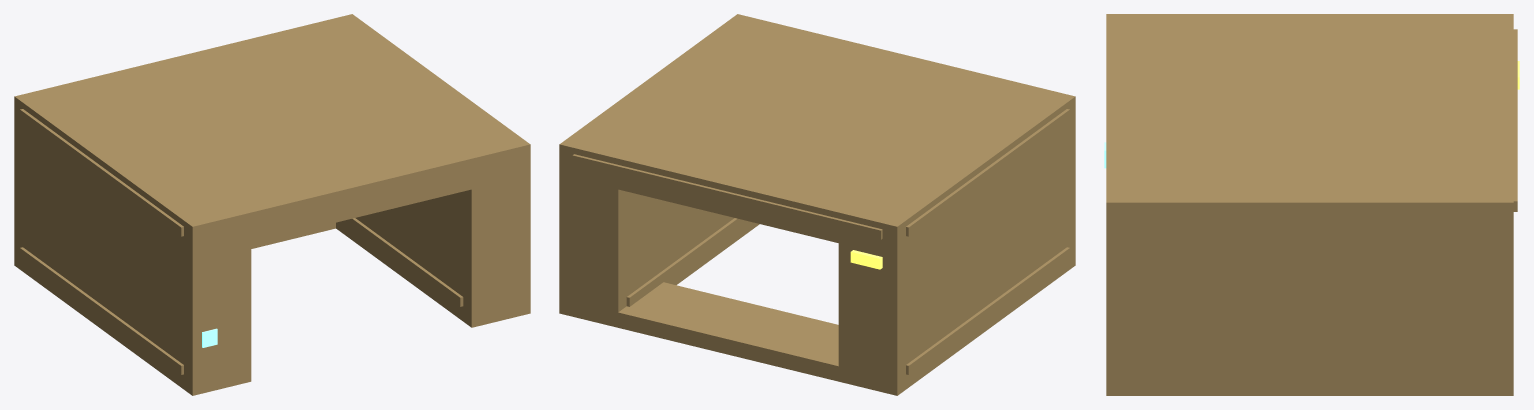
File: drone_depot_lod0-C-ivmaqK.glb
The picture shows the model from 3 angles, left to right: view 1: azimuth 30°, elevation 25°; view 2: azimuth 150°, elevation 25°; view 3: azimuth 270°, elevation 25°; orthographic projection. The views are drawn at different scales.
Visible parts, largest first — view 1: body; view 2: body, sign; view 3: body.
Part boxes in pixels (x1=…): body: x1=14, y1=14, x2=530, y2=395; body: x1=559, y1=14, x2=1075, y2=395; sign: x1=850, y1=250, x2=882, y2=269; body: x1=1106, y1=14, x2=1517, y2=395.
Bounding box in the file's own units: 0.928 × 0.44 × 0.856.
